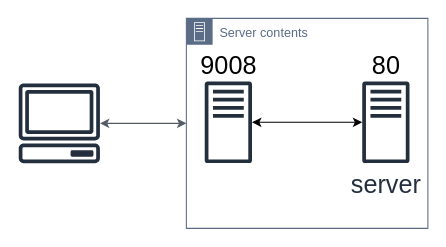
Some shapes in this 446 by 247 pixel diagram are drawn without their labels. Here are the shapes that lost their labels. From the top down, the centre of each, then its label:
At [59,123]: "client".
At [227,122]: "Agency Server".
